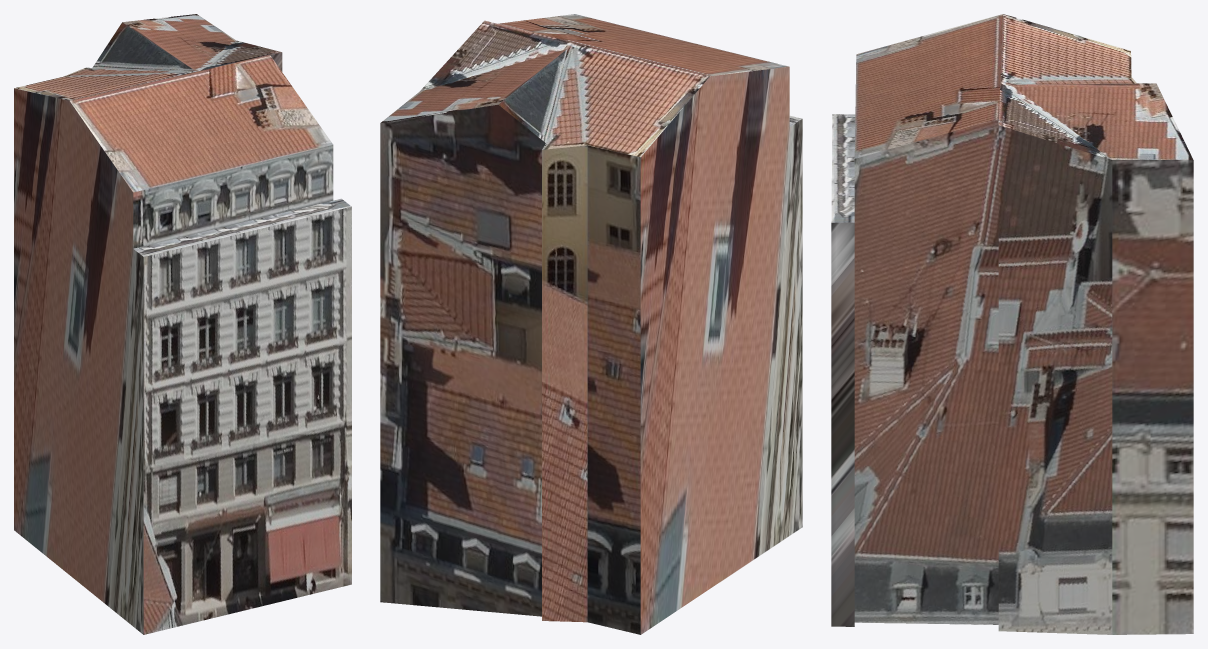
3 renders of one model, left to right at view 1: azimuth 30°, elevation 25°; view 2: azimuth 150°, elevation 25°; view 3: azimuth 270°, elevation 25°, orthographic. The views are drawn at different scales.
Parts seen in each view (by area): view 1: Z_UP; view 2: Z_UP; view 3: Z_UP.
Part boxes in pixels (x1,y1,x2,y2): Z_UP: [14, 14, 351, 634]; Z_UP: [380, 14, 802, 634]; Z_UP: [831, 14, 1193, 634].
Size of the model in its own units: 12.52 by 25.34 by 16.39.
Materials: 2 (1 with a texture image).
